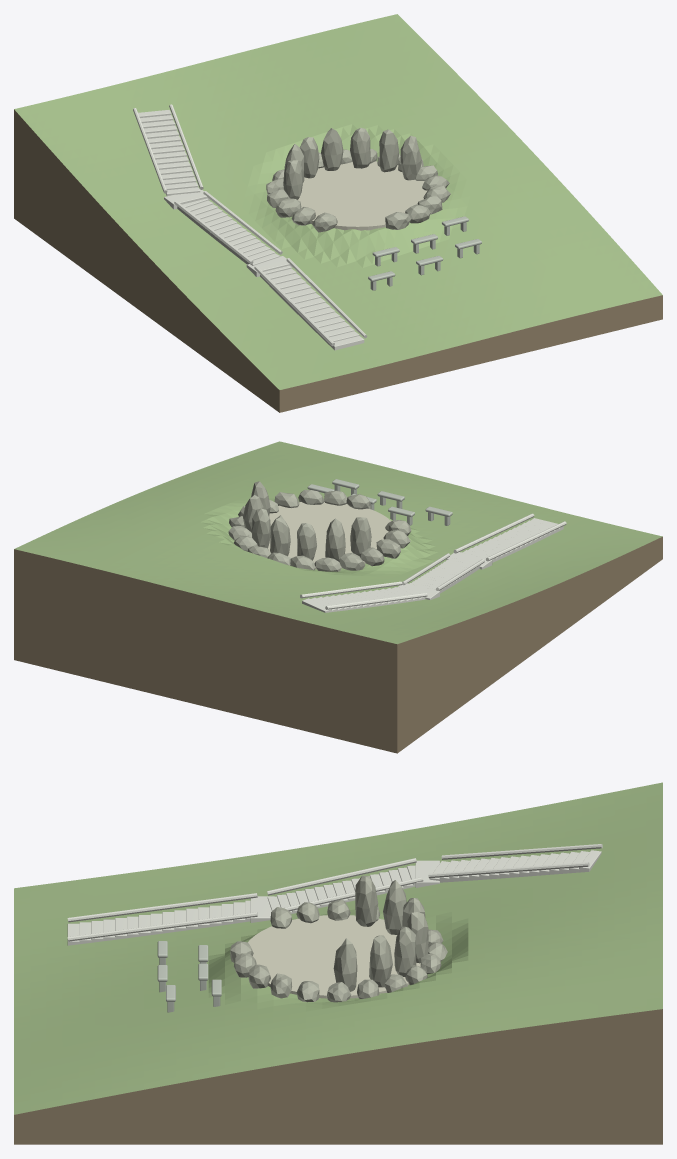
File: landmark.glb
3 views of the same model, one above another, from view 1: azimuth 30°, elevation 25°; view 2: azimuth 150°, elevation 25°; view 3: azimuth 270°, elevation 25° (orthographic). The views are drawn at different scales.
Parts seen in each view (by area): view 1: Local hillside editable mesh, Terrain earth sides, Round prayer platform, Upright crown stone 03, Upright crown stone 00, Upright crown stone 01, Upright crown stone 02, Upright crown stone 06, Upright crown stone 04; view 2: Terrain earth sides, Local hillside editable mesh, Round prayer platform, Upright crown stone 05, Upright crown stone 06, Upright crown stone 03, Upright crown stone 02, Upright crown stone 04; view 3: Local hillside editable mesh, Terrain earth sides, Round prayer platform, Upright crown stone 06, Low stair curb.001, Low stair curb, Upright crown stone 01, Upright crown stone 00, Upright crown stone 05, Upright crown stone 02, Low stair curb.005, Low stair curb.004 (+2 smaller).
Boxes of the visible parts, bbox=[...] form: Local hillside editable mesh: bbox=[14, 14, 662, 389]; Terrain earth sides: bbox=[14, 109, 662, 412]; Round prayer platform: bbox=[298, 161, 427, 230]; Upright crown stone 03: bbox=[321, 128, 343, 170]; Upright crown stone 00: bbox=[400, 136, 421, 180]; Upright crown stone 01: bbox=[379, 129, 399, 172]; Upright crown stone 02: bbox=[350, 128, 370, 168]; Upright crown stone 06: bbox=[283, 160, 302, 199]; Upright crown stone 04: bbox=[300, 137, 319, 178]; Terrain earth sides: bbox=[14, 536, 662, 753]; Local hillside editable mesh: bbox=[14, 441, 662, 644]; Round prayer platform: bbox=[268, 502, 390, 569]; Upright crown stone 05: bbox=[325, 518, 345, 561]; Upright crown stone 06: bbox=[350, 517, 371, 556]; Upright crown stone 03: bbox=[270, 515, 290, 556]; Upright crown stone 02: bbox=[252, 508, 270, 547]; Upright crown stone 04: bbox=[297, 523, 316, 560]; Local hillside editable mesh: bbox=[14, 782, 662, 1114]; Terrain earth sides: bbox=[14, 1009, 662, 1144]; Round prayer platform: bbox=[248, 915, 420, 998]; Upright crown stone 06: bbox=[355, 875, 378, 926]; Low stair curb.001: bbox=[67, 912, 257, 941]; Low stair curb: bbox=[67, 893, 257, 922]; Upright crown stone 01: bbox=[369, 935, 392, 987]; Upright crown stone 00: bbox=[333, 938, 357, 991]; Upright crown stone 05: bbox=[383, 880, 406, 934]; Upright crown stone 02: bbox=[394, 926, 416, 976]; Low stair curb.005: bbox=[428, 862, 589, 878]; Low stair curb.004: bbox=[441, 844, 602, 859].
Size of the model in its own units: 20 by 5.65 by 24.
